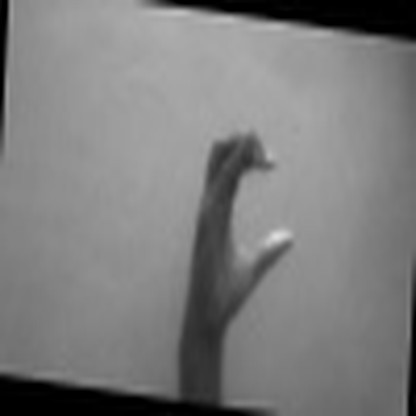c: (186, 116, 299, 315)
